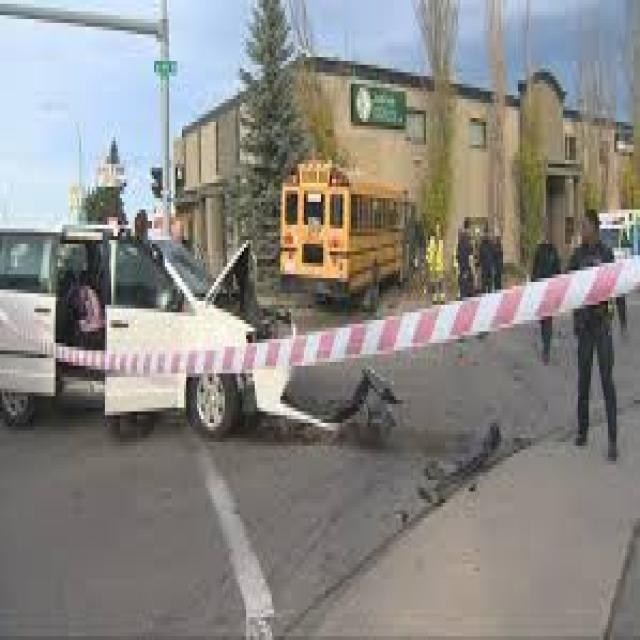Accident: (0, 208, 406, 467), (276, 141, 438, 324)
